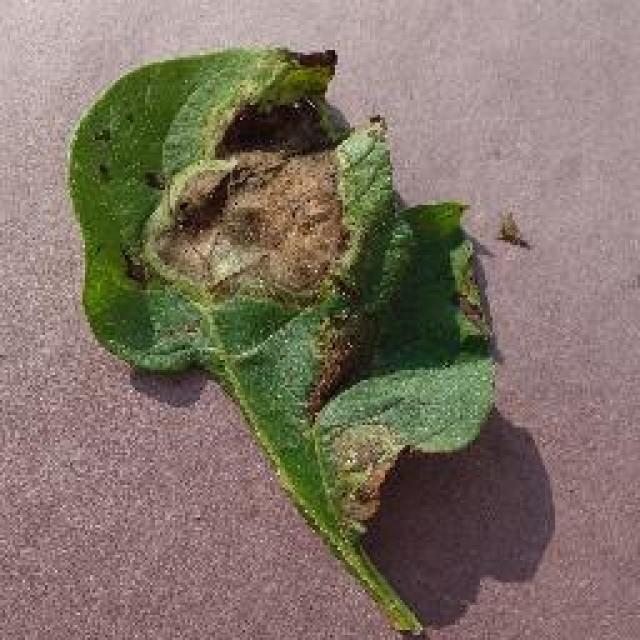late_blight: (62, 40, 502, 638)
